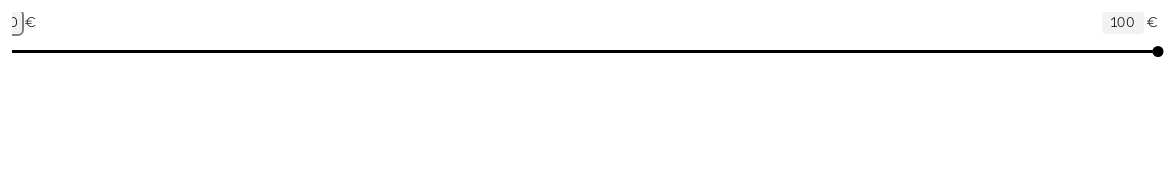
Test: Given a bar with 200px width › When end handler is moved 99px to the left › end input value should have value of 50
Press the mouse on the button with test id "end-handler" at (1158, 52), box [1152,46,1164,57]
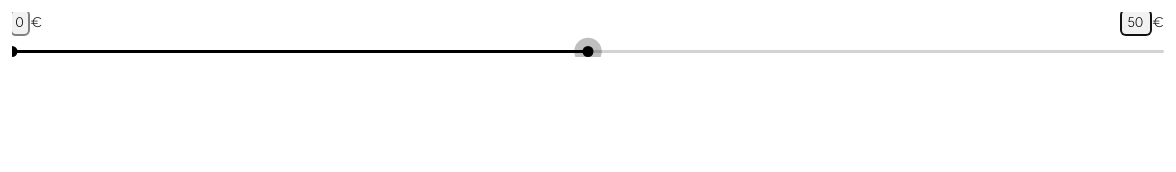
Result: the number field named "end" holds "50" at [1122,11,1150,34]
